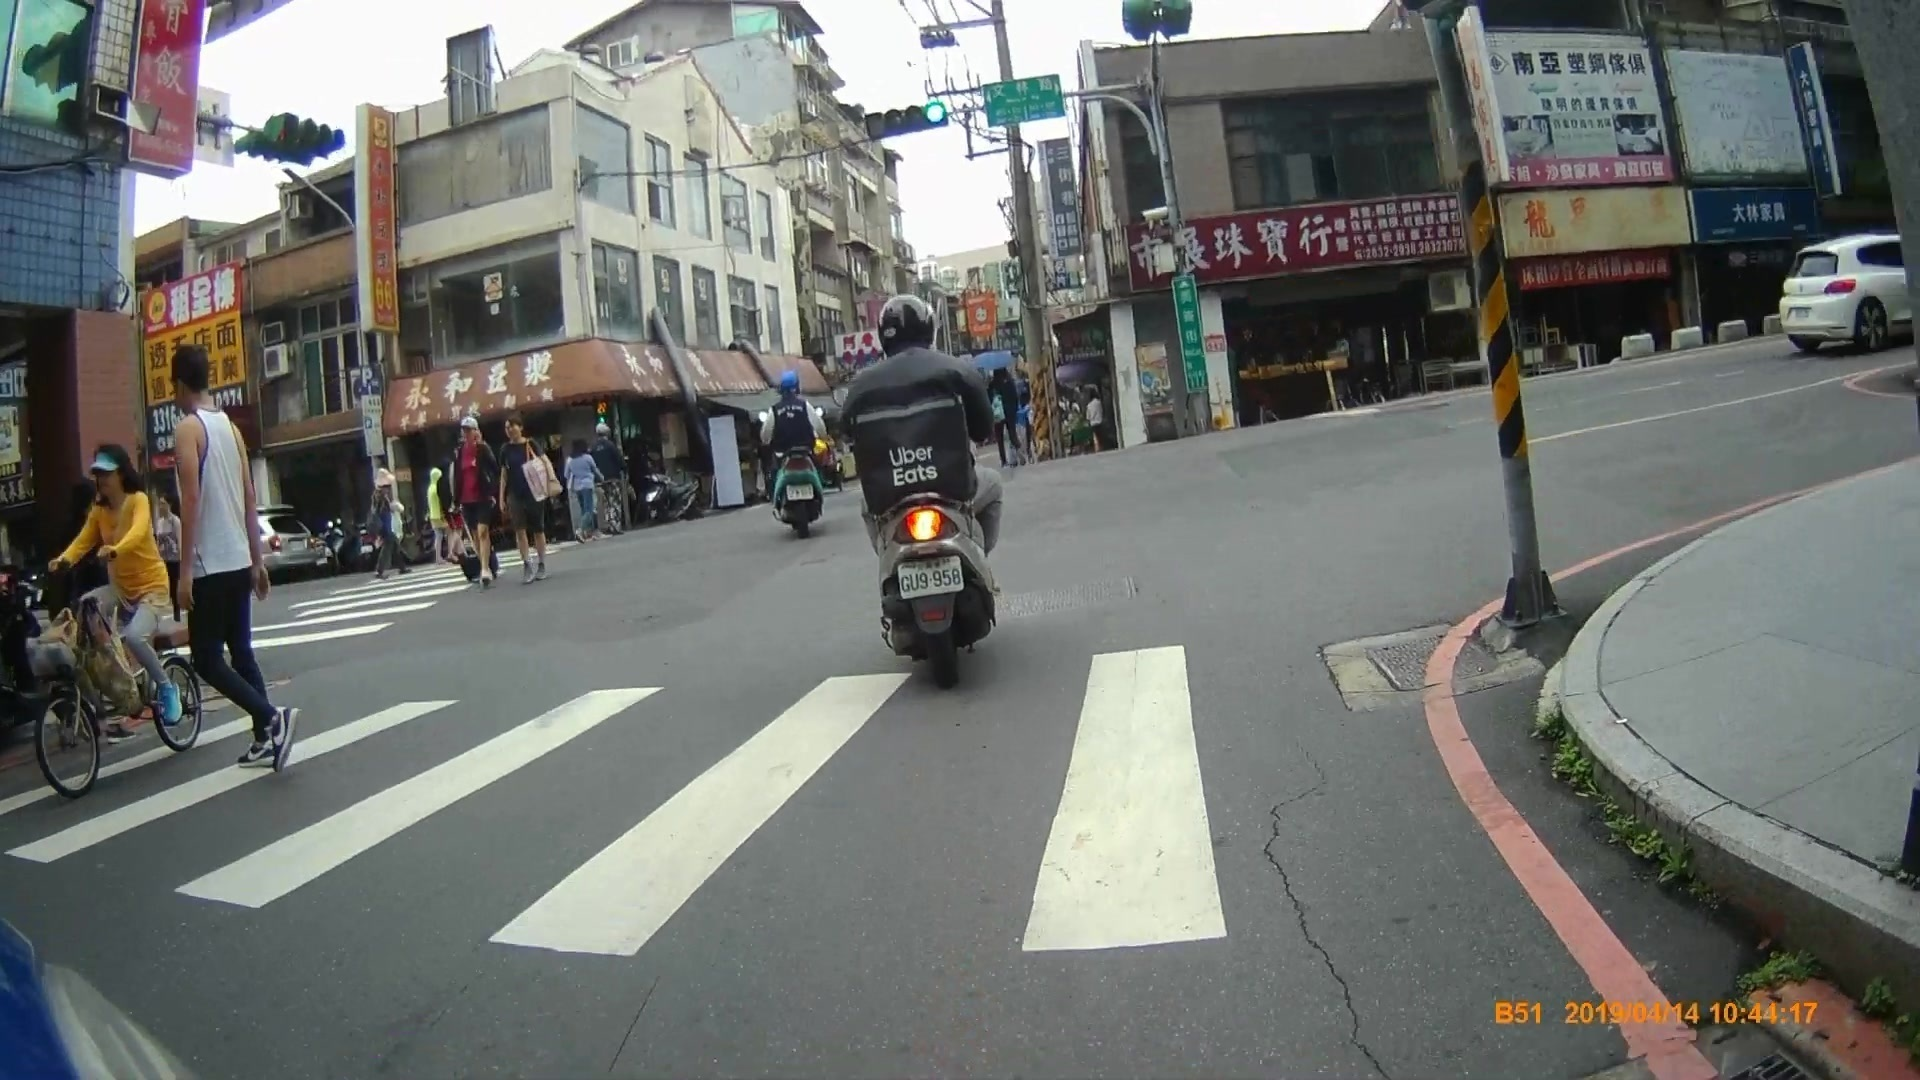License_plate: (893, 556, 968, 592)
